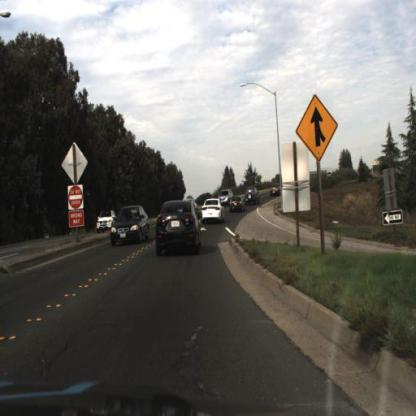car: (151, 200, 200, 261), (111, 205, 153, 252), (201, 197, 225, 226), (202, 199, 225, 226), (96, 209, 115, 236), (244, 182, 261, 208), (230, 193, 246, 214), (269, 179, 285, 199)
